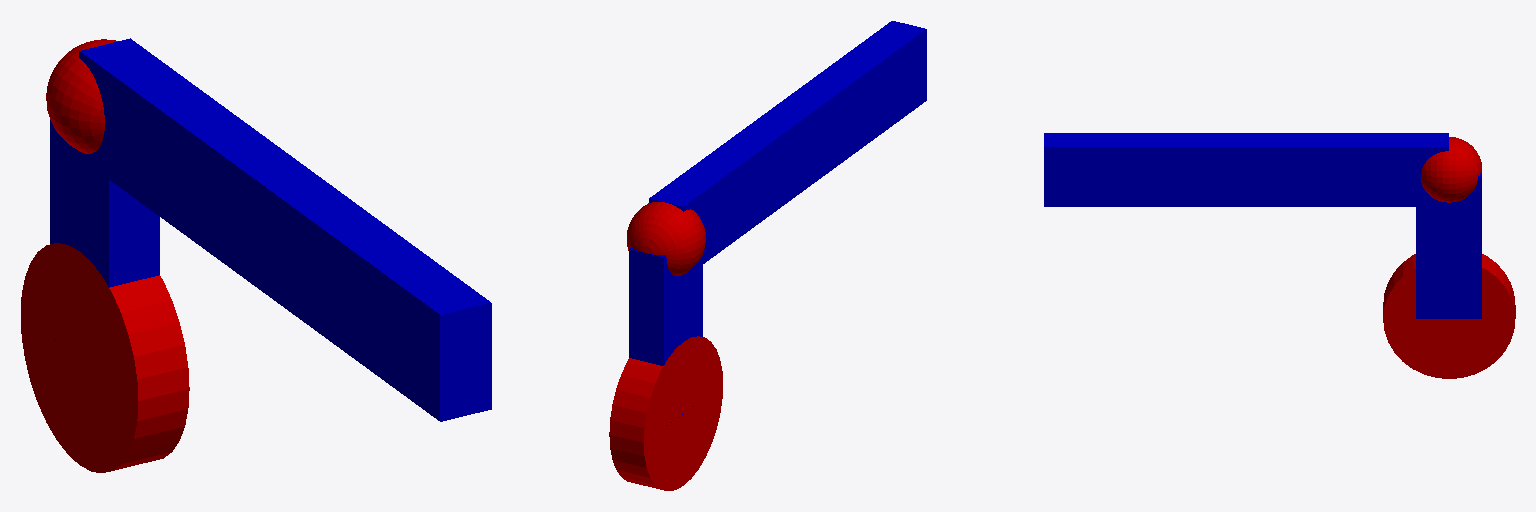
URDF robot description (TwoLinkStruct720153499):
<?xml version="1.0"?>
<robot  name="TwoLinkStruct720153499" >
 <material  name="blue" >
  <color  rgba="0 0 0.8 1.0" />
 </material>
 <material  name="red" >
  <color  rgba="0.8 0 0 1.0" />
 </material>
 <link  name="base_link" >
  <visual >
   <origin  rpy="0 1.5707 0"  xyz="0 0 0" />
   <material  name="red" />
   <geometry >
    <cylinder  length="0.05"  radius="0.1" />
   </geometry>
  </visual>
 </link>
 <joint  type="revolute"  name="joint1" >
  <parent  link="base_link" />
  <child  link="link1" />
  <origin  xyz="0 0 0"  rpy="0 0 0" />
  <axis  xyz="1 0 0" />
 </joint>
 <link  name="link1" >
  <inertial >
   <origin  rpy="0 0 0"  xyz="0 0 0.11861862640100246" />
   <mass  value="0.4977996740370805" />
   <inertia  ixy="0.0"  iyy="0.00020741653084878356"  izz="0.0024384515472391454"  ixz="0.0"  ixx="0.0024384515472391454"  iyz="0.0" />
  </inertial>
  <visual >
   <origin  rpy="0 0 0"  xyz="0 0 0.11861862640100246" />
   <material  name="blue" />
   <geometry >
    <box  size="0.05 0.1 0.23723725280200492" />
   </geometry>
  </visual>
 </link>
 <joint  type="fixed"  name="joint-joint-1" >
  <parent  link="link1" />
  <child  link="joint-link-1" />
  <origin  xyz="0 0 0.23723725280200492"  rpy="1.5707 0 0" />
  <axis  xyz="1 0 0" />
 </joint>
 <link  name="joint-link-1" >
  <inertial >
   <origin  rpy="0 0 0"  xyz="0 0 0" />
   <mass  value="2.928104368768625" />
   <inertia  ixy="0"  iyy="0"  izz="0"  ixz="0"  ixx="0"  iyz="0" />
  </inertial>
  <visual >
   <origin  rpy="0 0 0"  xyz="0 0 0" />
   <material  name="red" />
   <geometry >
    <sphere  radius="0.05" />
   </geometry>
  </visual>
 </link>
 <joint  type="revolute"  name="joint2" >
  <parent  link="link1" />
  <child  link="link2" />
  <origin  xyz="0 0 0.23723725280200492"  rpy="1.5707 0 0" />
  <axis  xyz="1 0 0" />
 </joint>
 <link  name="link2" >
  <inertial >
   <origin  rpy="0 0 0"  xyz="0 0 0.3058121405894926" />
   <mass  value="1.7054948110037509" />
   <inertia  ixy="0.0"  iyy="0.00020741653084878356"  izz="0.015621960211369076"  ixz="0.0"  ixx="0.015621960211369076"  iyz="0.0" />
  </inertial>
  <visual >
   <origin  rpy="0 0 0"  xyz="0 0 0.3058121405894926" />
   <material  name="blue" />
   <geometry >
    <box  size="0.05 0.1 0.6116242811789852" />
   </geometry>
  </visual>
 </link>
 <joint  type="fixed"  name="eef_joint" >
  <parent  link="link2" />
  <child  link="eef" />
  <origin  xyz="0 0 0.6116242811789852"  rpy="0 0 0" />
 </joint>
 <link  name="eef" >
  <inertial >
   <origin  rpy="0 0 0"  xyz="0 0 0" />
   <mass  value="1" />
   <inertia  ixy="0"  iyy="0"  izz="0"  ixz="0"  ixx="0"  iyz="0" />
  </inertial>
 </link>
 <transmission  name="motor1" >
  <type  xmltext="SimpleTransmission" >
   SimpleTransmission
  </type>
  <actuator  name="motor1" >
   <mechanicalreduction  xmltext="1" >
    1
   </mechanicalreduction>
  </actuator>
  <joint  name="joint1" />
 </transmission>
 <transmission  name="motor2" >
  <type  xmltext="SimpleTransmission" >
   SimpleTransmission
  </type>
  <actuator  name="motor2" >
   <mechanicalreduction  xmltext="1" >
    1
   </mechanicalreduction>
  </actuator>
  <joint  name="joint2" />
 </transmission>
</robot>

<!-- {'carti': array([-0.1 ,  0.14,  0.85]), 'cartd': array([-0.1 ,  0.32,  1.29]), 'tau_mu': 0.5210858105011776, 'b0': 0.0, 'Km': 4.30396653926689, 'k_velocity': 0.01, 'tau_max_m': 2.300292192862109, 'omega_max_m': 1000.0, 'gear_ratio': 15.23528407583844, 'Kp': 16.1816093949484, 'Kd': 90.0914180668188, 'm_m': 2.928104368768625, 'l1': 0.23723725280200492, 'l2': 0.6116242811789852, 'k1': 18928.32438435144, 'k2': 368717373.7767677, 'k3': 212385906.0691515}-->

--- Render facts (derived) ---
The picture shows the robot from 3 angles, left to right: view 1: azimuth 30°, elevation 25°; view 2: azimuth 150°, elevation 25°; view 3: azimuth 270°, elevation 25°; orthographic projection.
Model TwoLinkStruct720153499 with 5 links and 4 joints (2 revolute, 2 fixed), rooted at base_link, posed every joint at zero.
Links seen in each view (by area): view 1: link2, base_link, link1, joint-link-1; view 2: link2, base_link, link1, joint-link-1; view 3: link2, base_link, link1, joint-link-1.
Link boxes in pixels (box(x1,y1,x2,y2)): link2: box(79, 38, 491, 421); base_link: box(21, 243, 189, 472); link1: box(50, 120, 159, 340); joint-link-1: box(46, 39, 117, 153); link2: box(649, 21, 926, 271); base_link: box(609, 336, 722, 490); link1: box(629, 247, 702, 425); joint-link-1: box(627, 202, 705, 275); link2: box(1044, 133, 1448, 206); base_link: box(1383, 254, 1515, 378); link1: box(1416, 173, 1481, 318); joint-link-1: box(1421, 137, 1481, 202).
Bounding box of the posed robot: 0.1 × 0.7116 × 0.3873 m (x, y, z).
Geometry: primitives only (box / cylinder / sphere), no mesh files.
